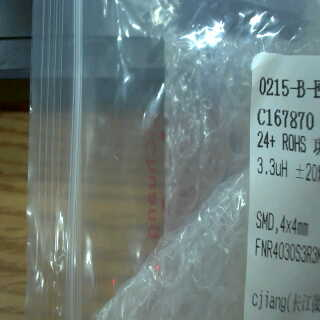3.3uH: (248, 152, 295, 181)
